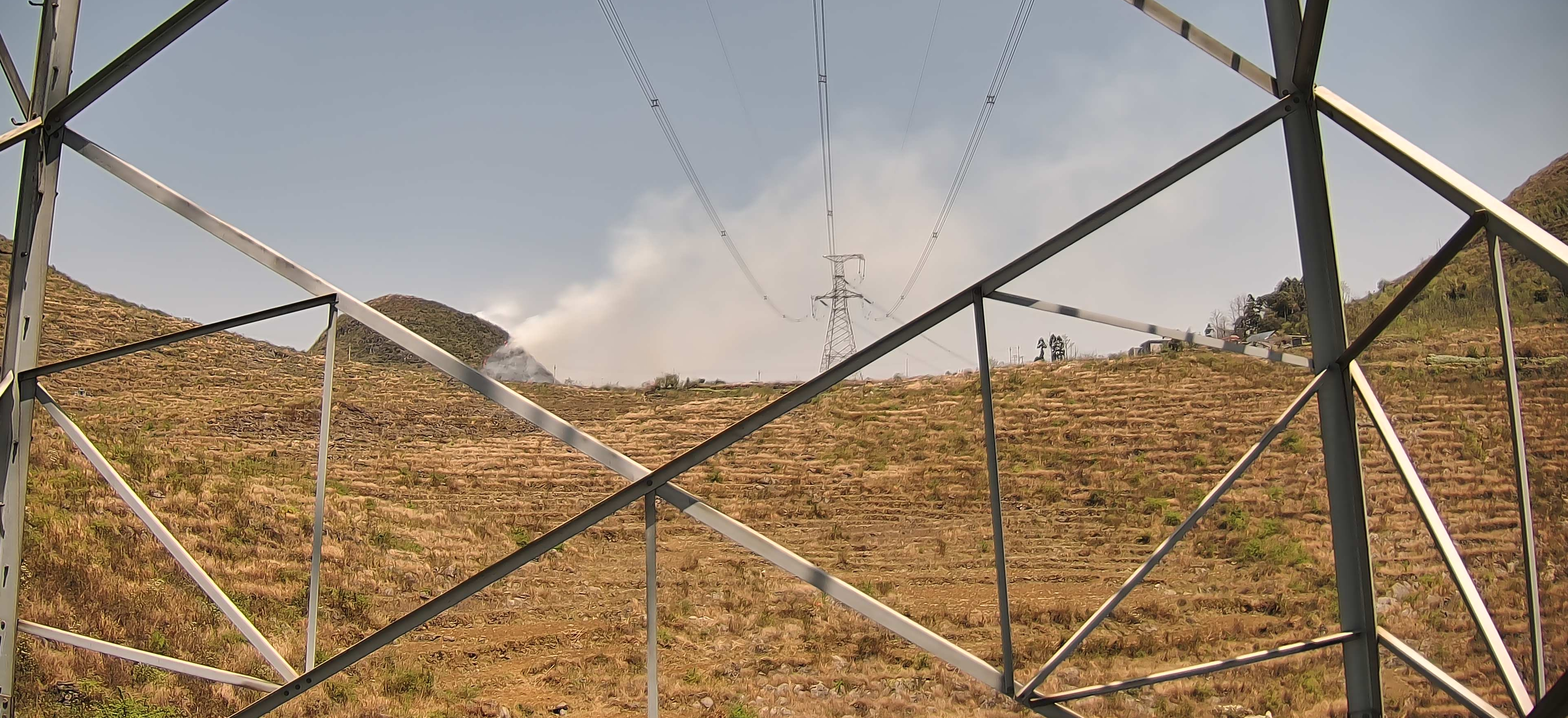山火: (482, 358, 487, 368), (486, 353, 492, 357), (504, 341, 507, 347)
烟雾: (478, 36, 1212, 392)
